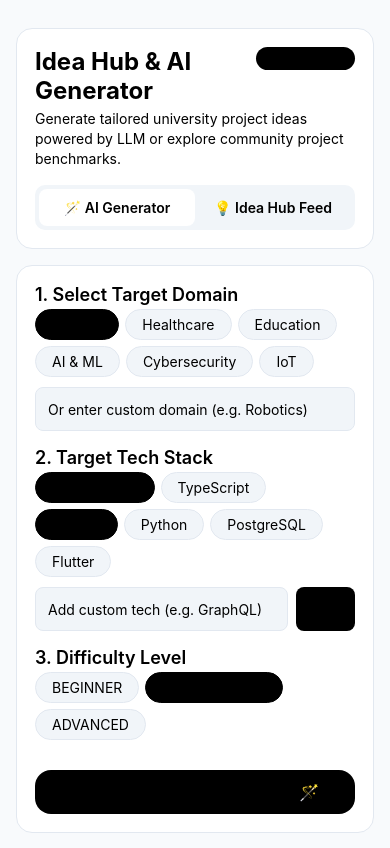
Test: Idea Hub & AI Idea Generator (Phase 4 - Features 11 & 18) › switches to Idea Hub Feed tab and renders community ideas
Click the text "💡 Idea Hub Feed": (273, 208) x1=214 y1=199 x2=332 y2=216
(page scrolled)
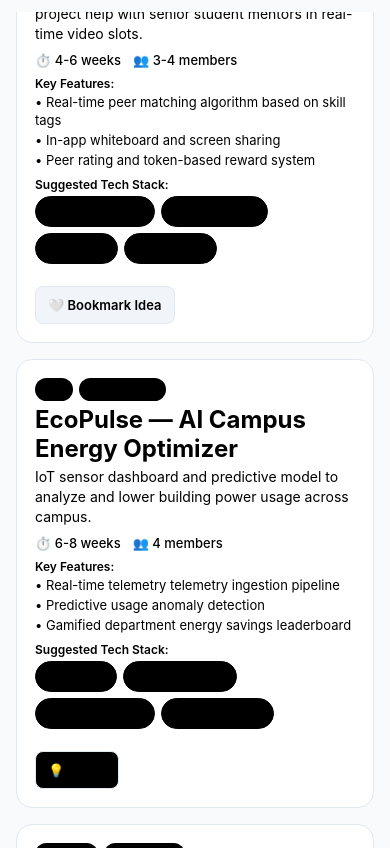
Expected: the text "EcoPulse — AI Campus Energy Optimizer" is shown, x1=35 y1=405 x2=355 y2=463
